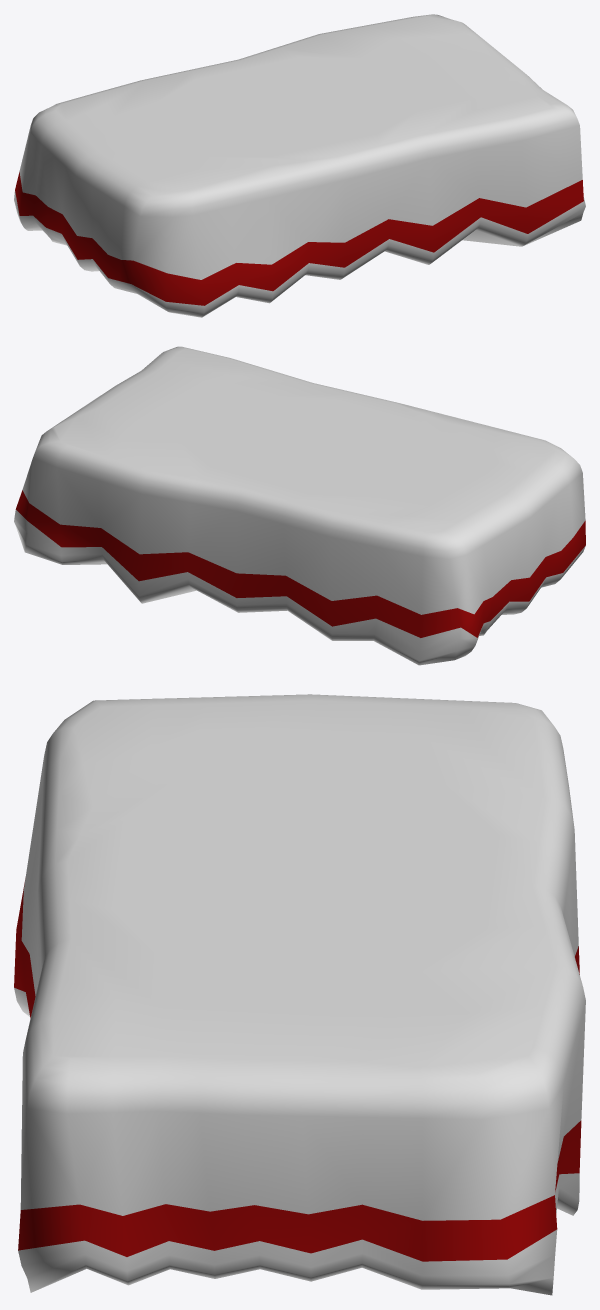
File: grass_05.fbx
The picture shows the model from 3 angles, top to bottom: view 1: azimuth 30°, elevation 25°; view 2: azimuth 150°, elevation 25°; view 3: azimuth 270°, elevation 25°; orthographic projection. The views are drawn at different scales.
Parts seen in each view (by area): view 1: Box013; view 2: Box013; view 3: Box013.
Part boxes in pixels (x1,y1,x2,y2): Box013: (14,14,585,317); Box013: (14,346,585,665); Box013: (14,694,585,1295).
Size of the model in its own units: 918 by 246 by 520.
